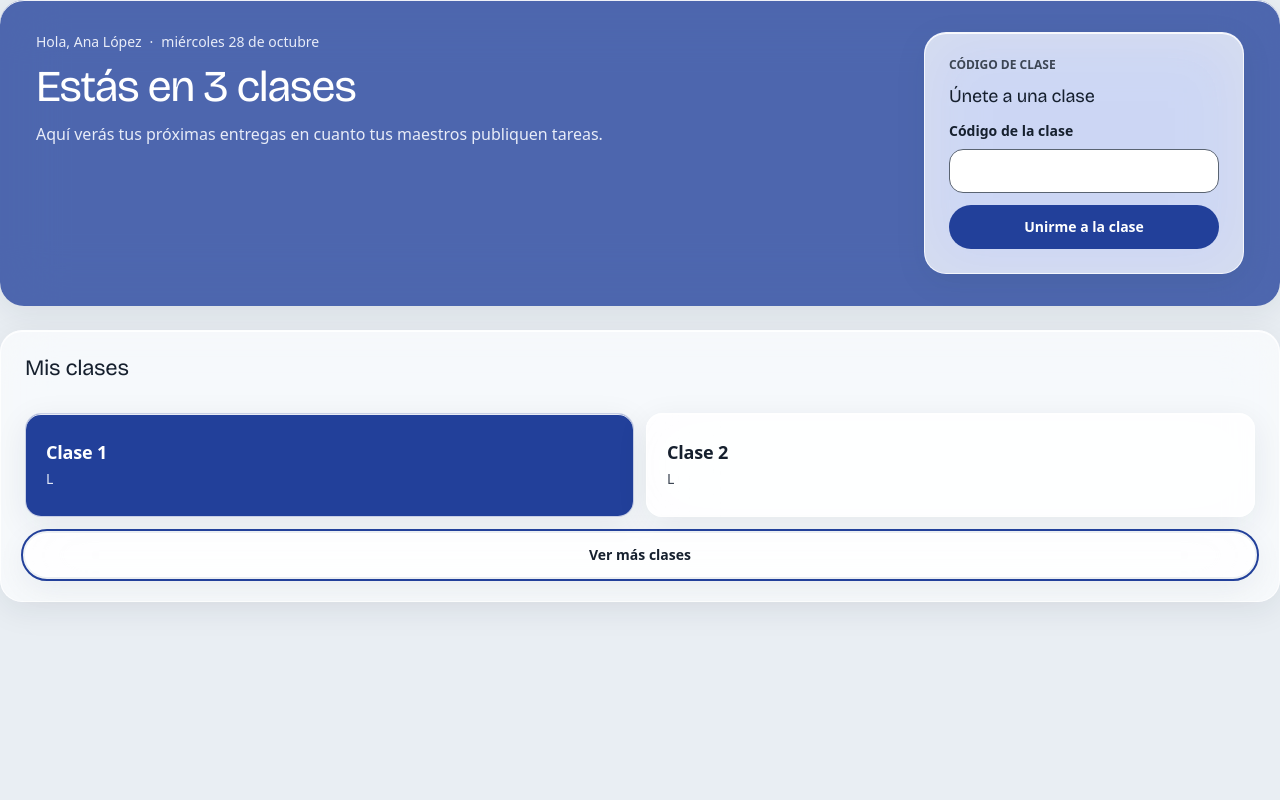
it: ataque CLASES-02c r2: los cinco «Cargar más» con dos clics y la página en vuelo › «Ver más clases» (inicio del estudiante), dos clics en 30 ms: una sola petición y ninguna fila duplicada
Click the button "Ver más clases" at (640, 555), box x1=25 y1=533 x2=1255 y2=577
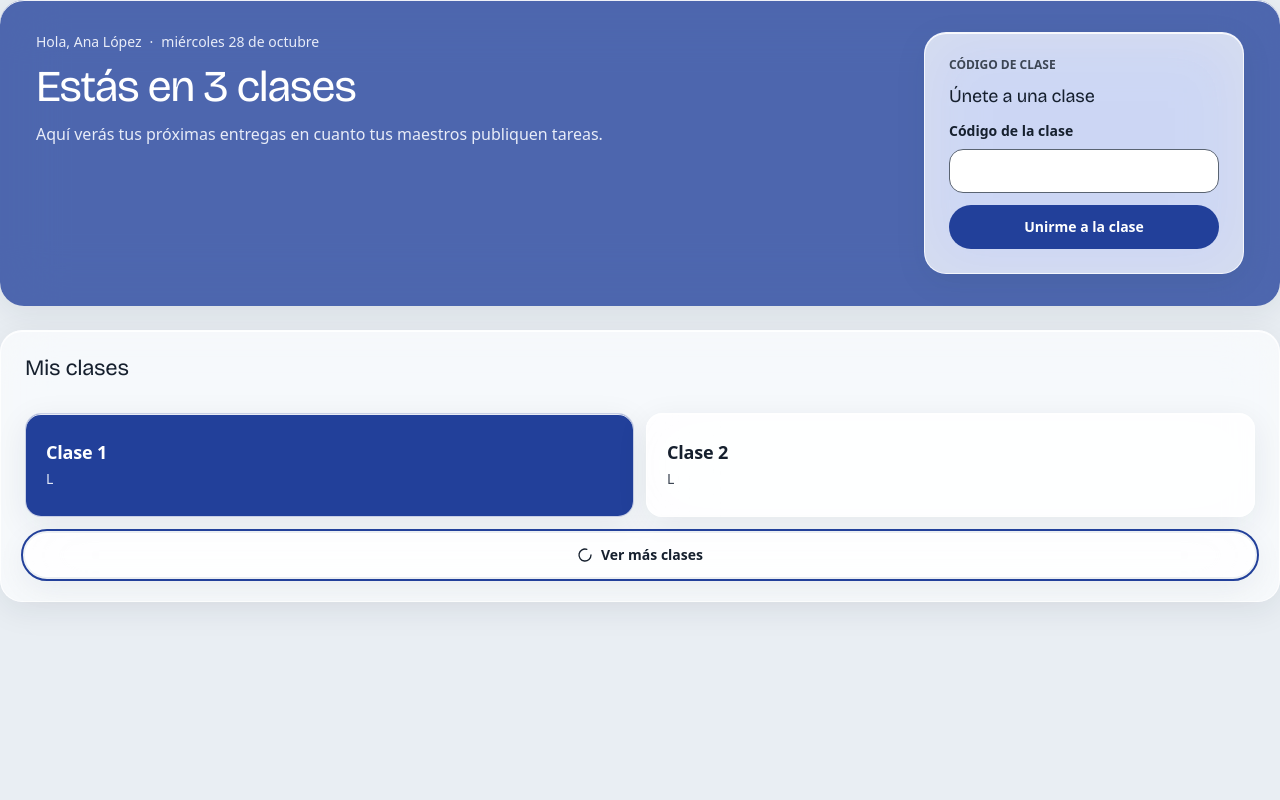
Click the button "Ver más clases" at (640, 555), box x1=25 y1=533 x2=1255 y2=577
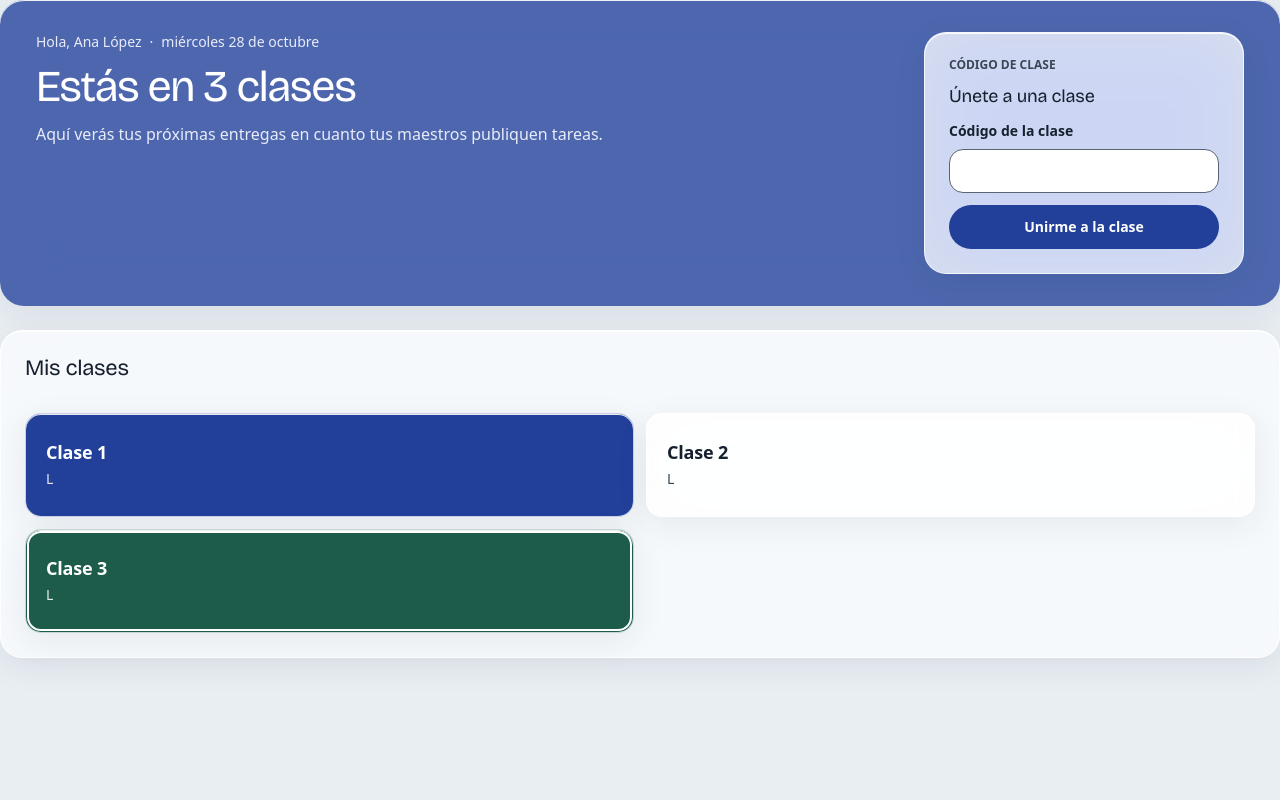
Expected: the button "Ver más clases" is gone
